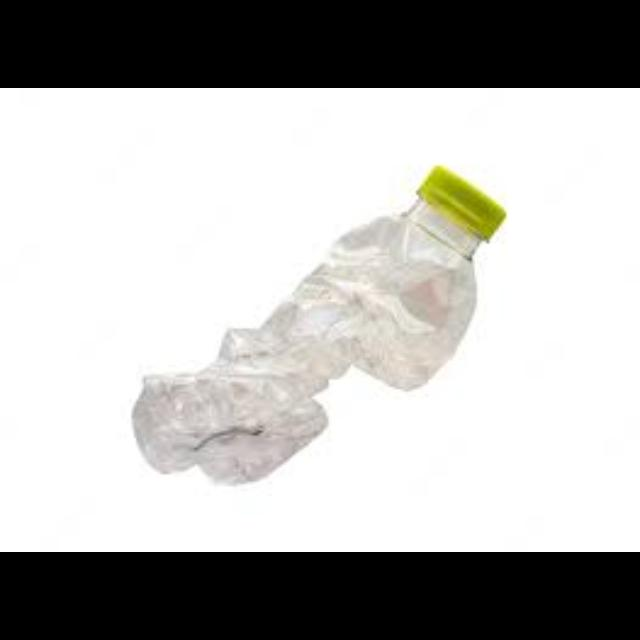trash: (126, 161, 514, 489)
